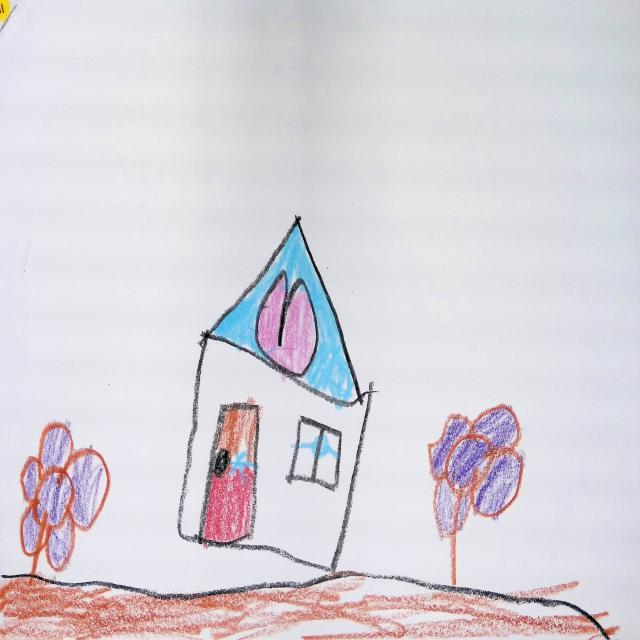door: (200, 405, 259, 544)
house: (178, 217, 373, 571)
roof: (207, 217, 361, 406)
wall: (176, 334, 373, 572)
window: (287, 417, 342, 492)
